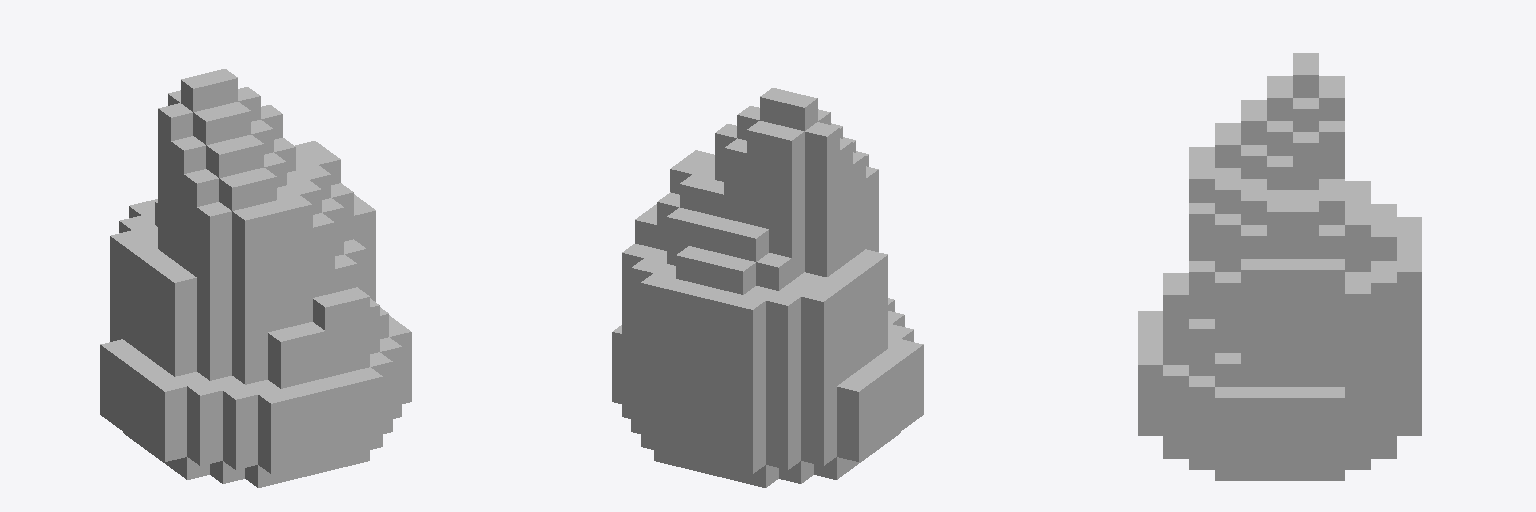
Rendered from stone3.obj.
3 views of the same model, side by side, from view 1: azimuth 30°, elevation 25°; view 2: azimuth 150°, elevation 25°; view 3: azimuth 270°, elevation 25° (orthographic).
Visible parts, largest first — view 1: object 1; view 2: object 1; view 3: object 1.
Part boxes in pixels (x1,y1,x2,y2): object 1: (100, 69, 411, 487); object 1: (612, 88, 923, 487); object 1: (1138, 53, 1421, 480).
Bounding box in the file's own units: 1.1 × 1.5 × 1.1.